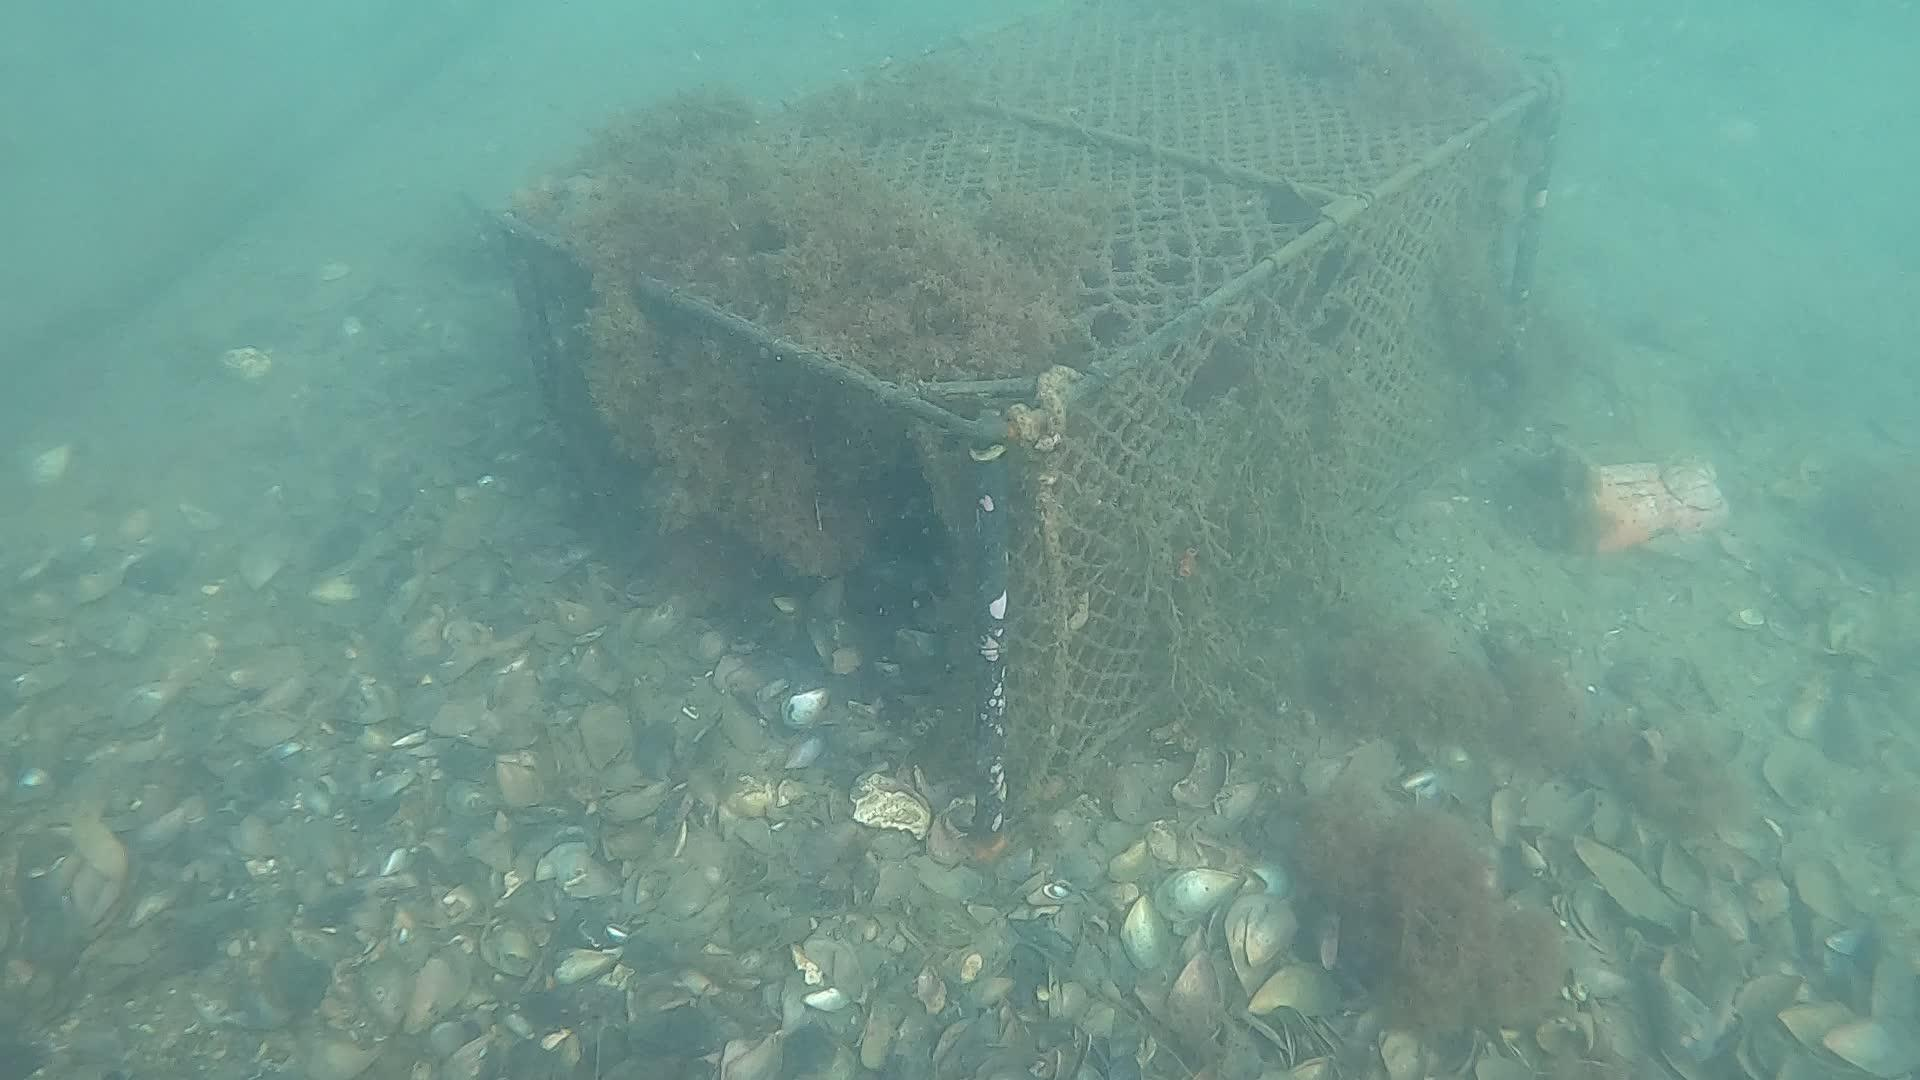rectangular fish trap: (488, 0, 1571, 866)
